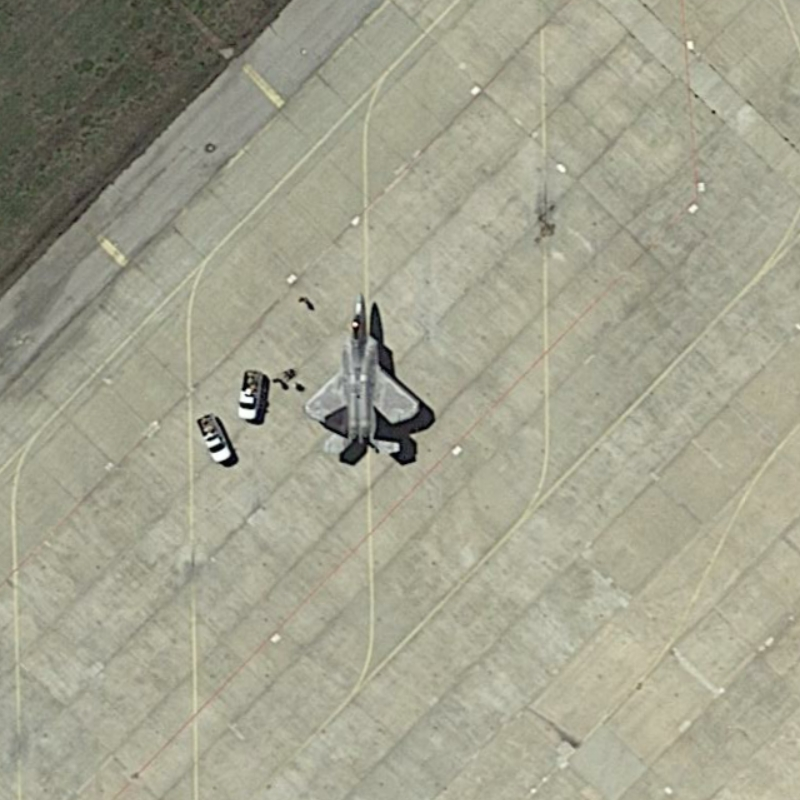A15: (299, 289, 447, 467)
